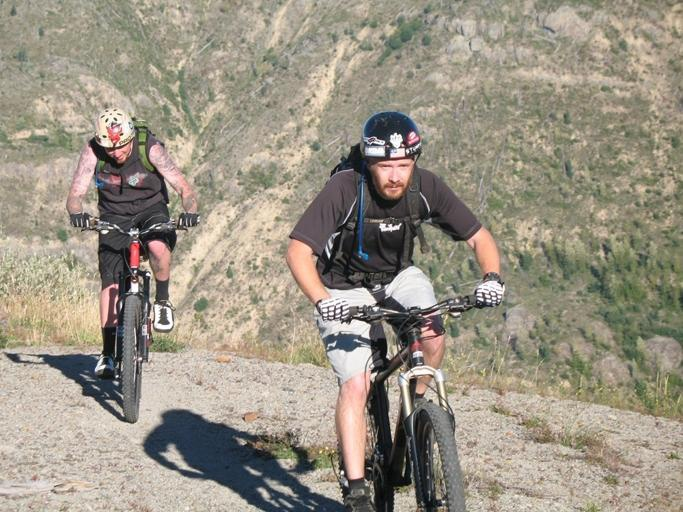non-vehicle: (330, 295, 488, 510), (76, 213, 200, 423)
